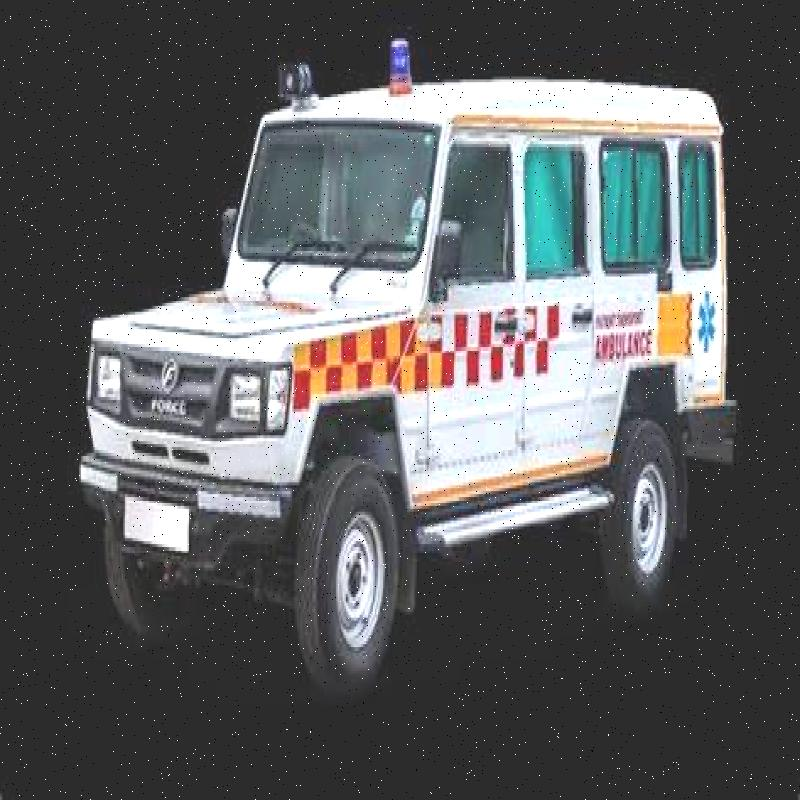AmbulanceSiren: (374, 18, 423, 110)
